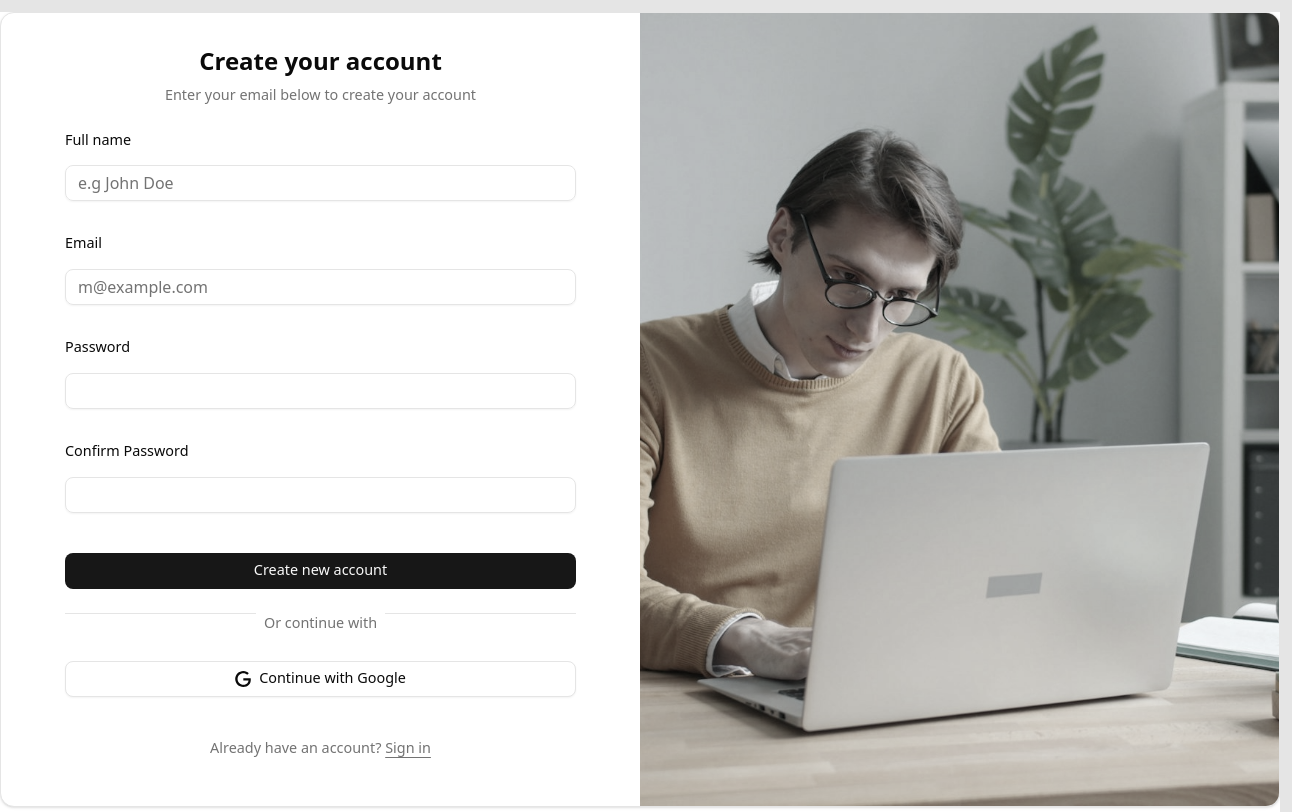
Scenario: SignupForm › Form Validation Behavior › shows error message when passwords do not match
Type "Mohamed Adam" into the field labelled "Full name" at (321, 183), box [65,165,576,201]
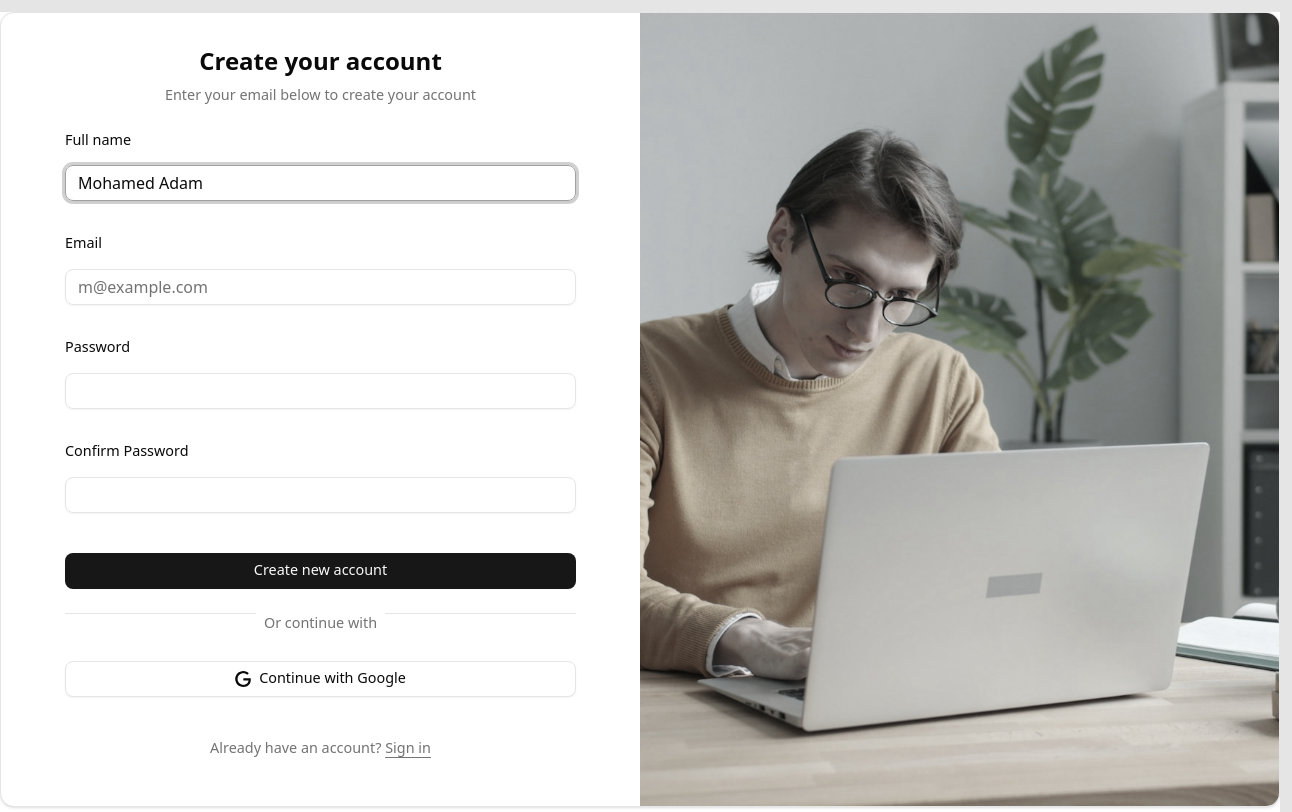
Type "test@gmail.com" into the field labelled "Email" at (321, 287), box [65,269,576,305]
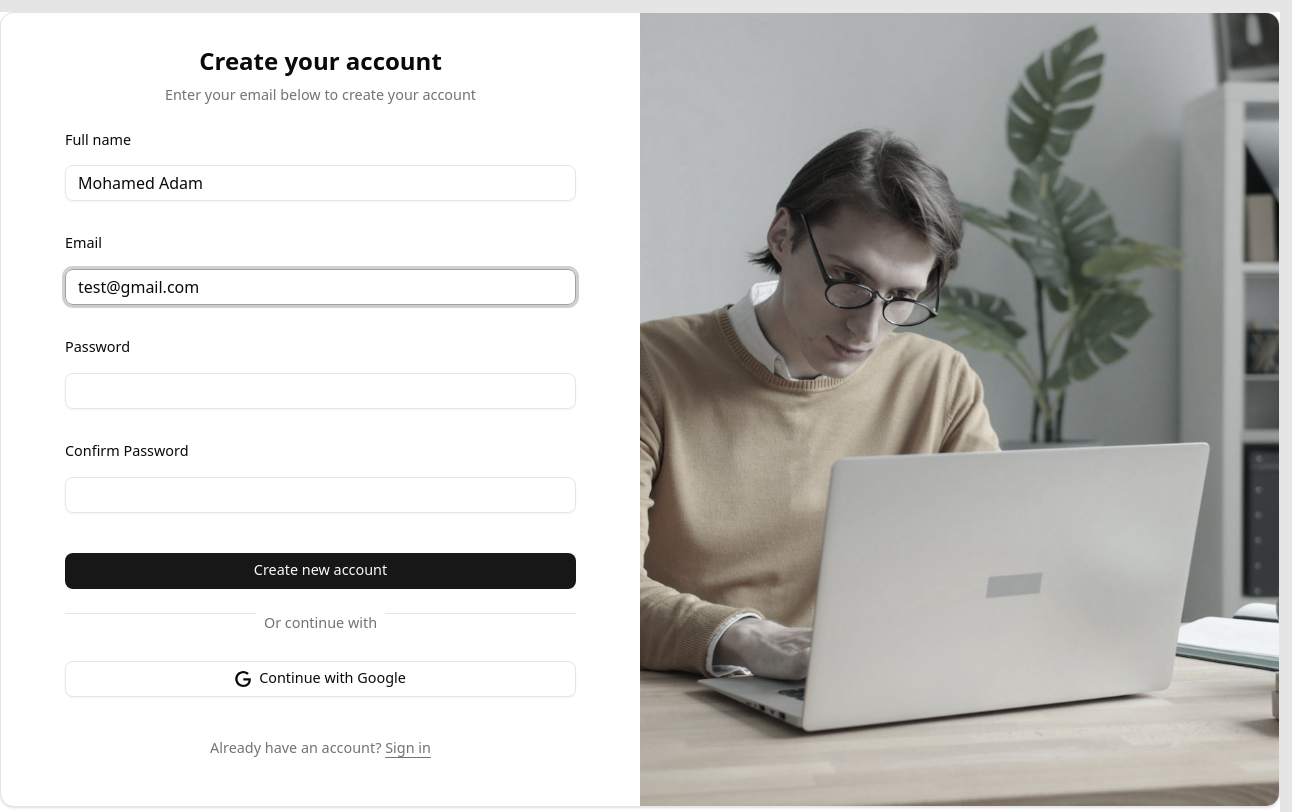
Type "password123" into the password field labelled "Password" at (321, 391), box [65,373,576,409]
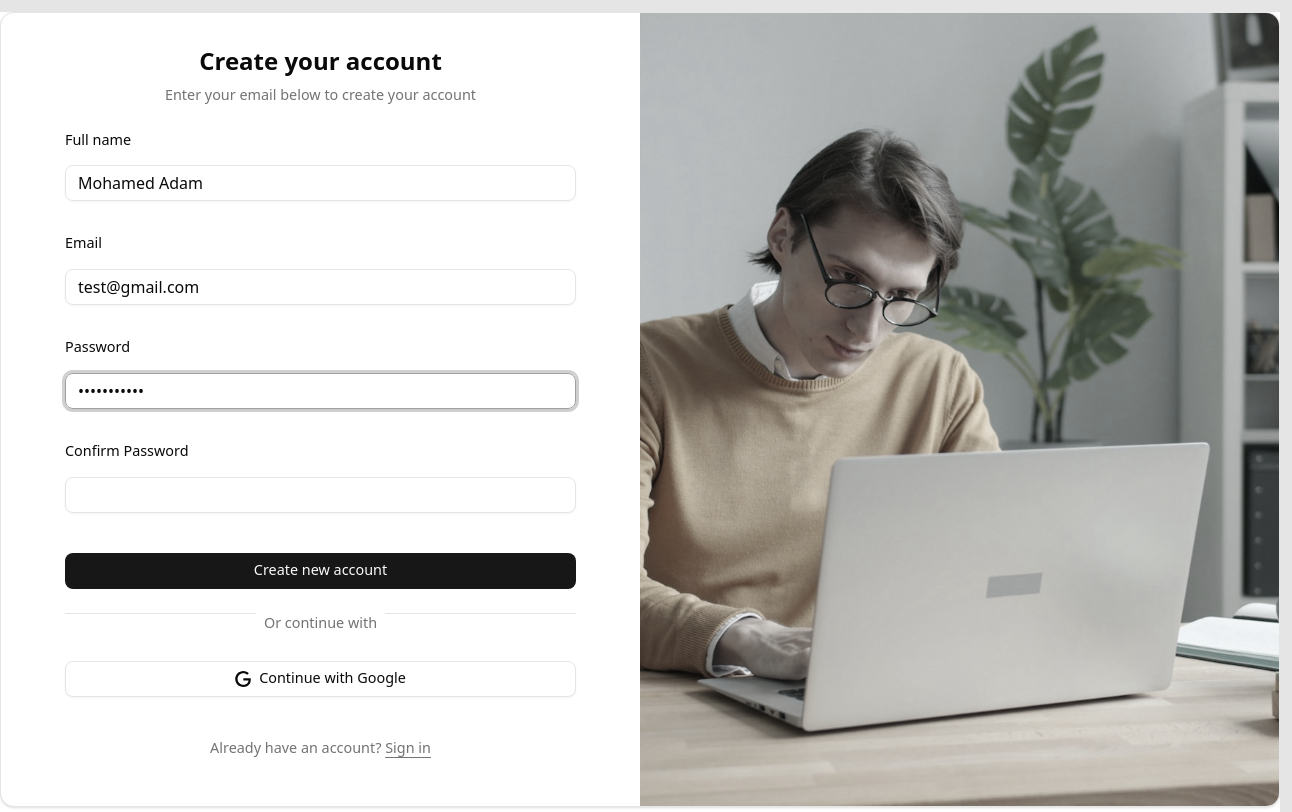
Type "different456" into the password field labelled "Confirm Password" at (321, 495), box [65,477,576,513]
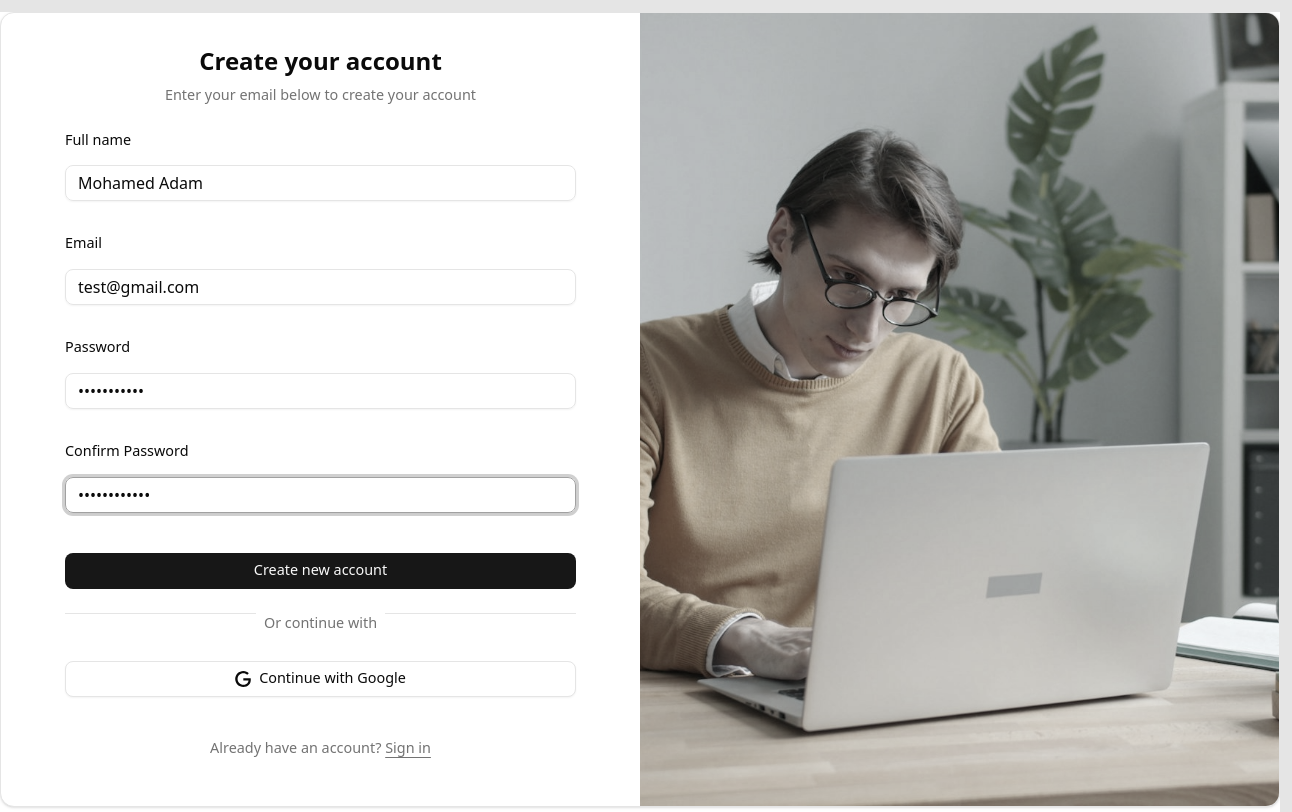
Click the button "Create new account" at (321, 571), box [65,553,576,589]
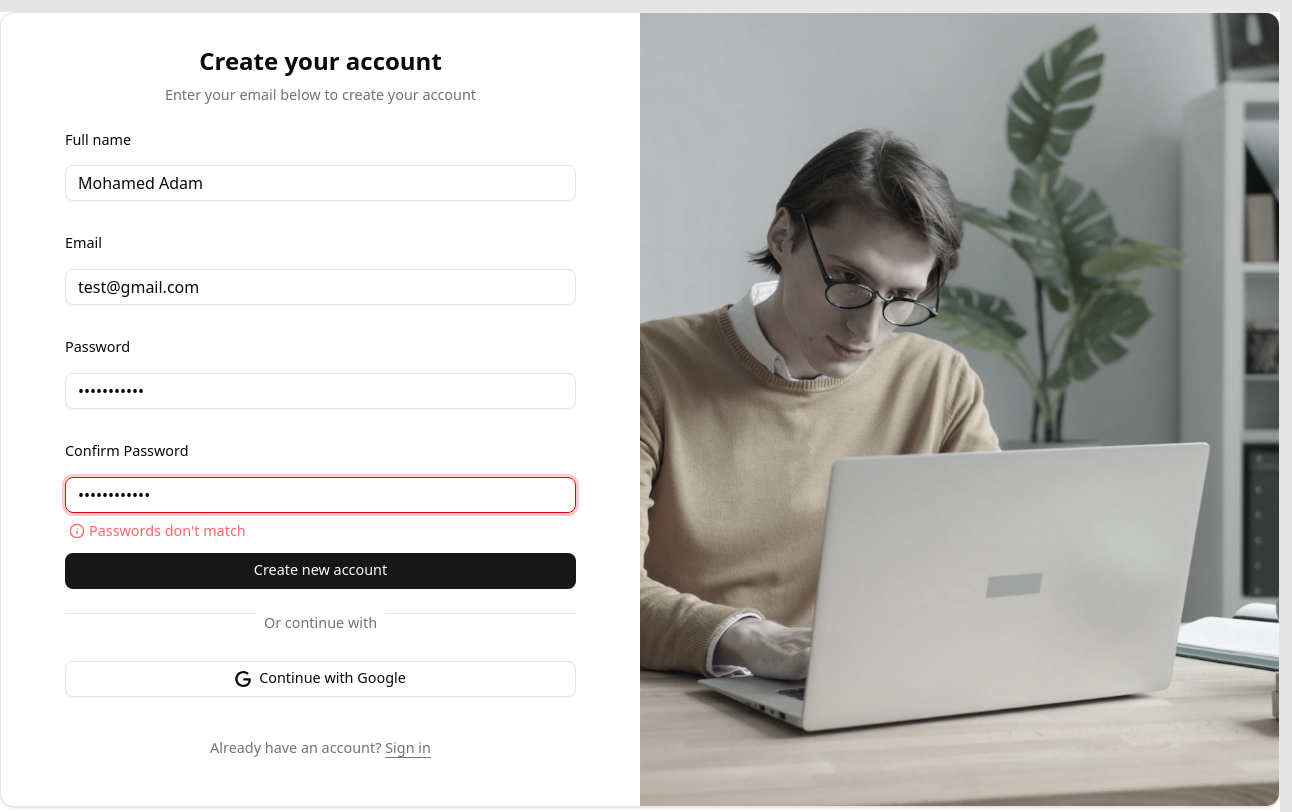
Expected: the text "Passwords don't match" is shown, [65,521,246,541]
